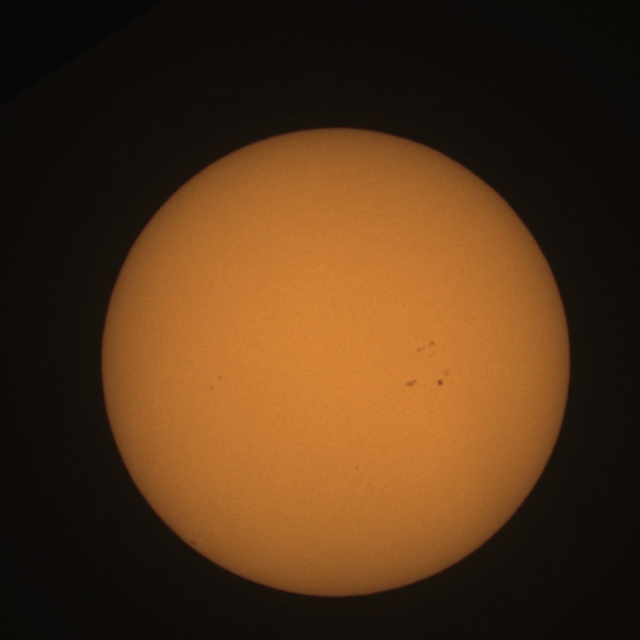sunspot: (416, 339, 436, 358), (436, 373, 452, 387), (210, 374, 222, 390), (405, 378, 418, 388), (436, 378, 444, 387), (354, 464, 360, 471), (217, 374, 223, 381), (190, 540, 197, 546), (210, 385, 214, 390)
